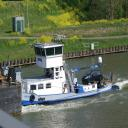tugboat: (2, 29, 121, 110)
